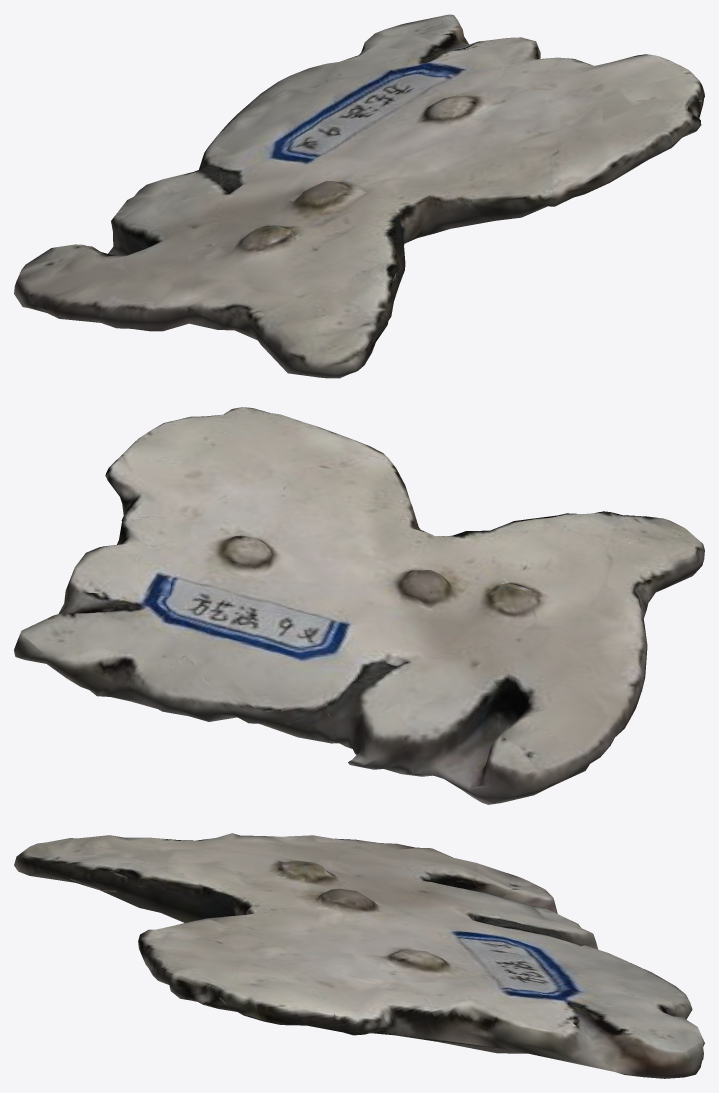
File: hall.glb
3 renders of one model, top to bottom at view 1: azimuth 30°, elevation 25°; view 2: azimuth 150°, elevation 25°; view 3: azimuth 270°, elevation 25°, orthographic. The views are drawn at different scales.
Size of the model in its own units: 0.775 by 0.2421 by 0.743.
1 material, 1 textured.
